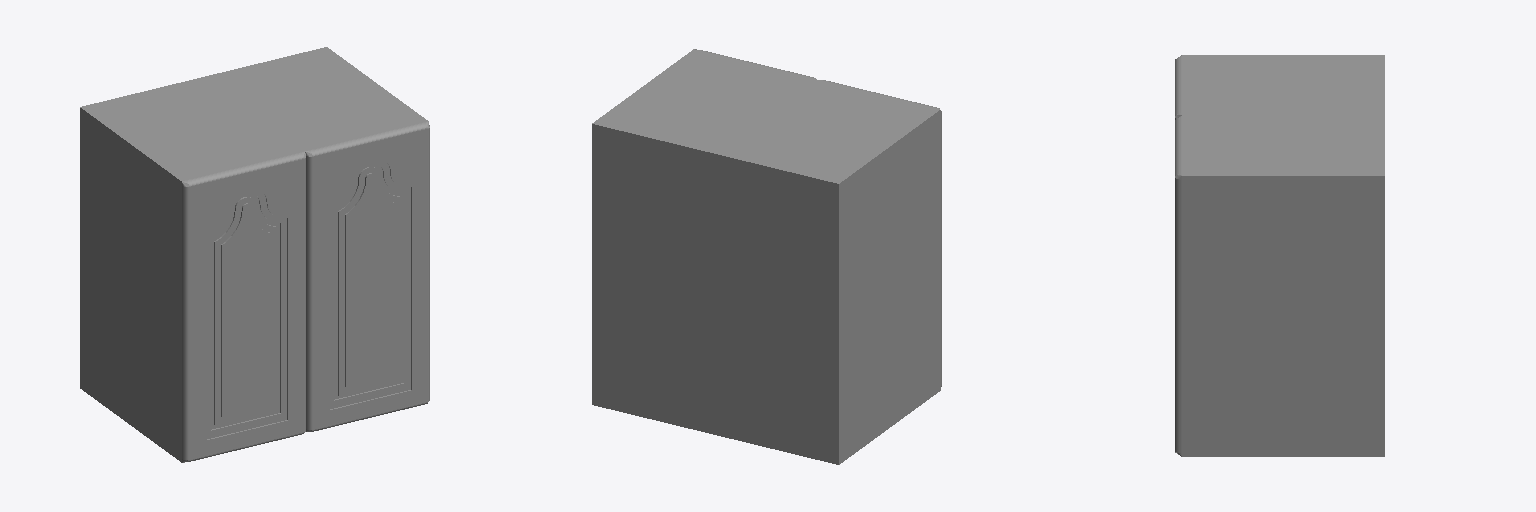
File: double-base-unit-800.obj
3 views of the same model, side by side, from view 1: azimuth 30°, elevation 25°; view 2: azimuth 150°, elevation 25°; view 3: azimuth 270°, elevation 25° (orthographic).
Visible parts, largest first — view 1: Cube.003_Cube.008, Cube.004_Cube.000, Cube.002_Cube.004, Cube_Cube.002; view 2: Cube_Cube.002, Cube.002_Cube.004, Cube.001_Cube.003; view 3: Cube.001_Cube.003, Cube_Cube.002, Cube.004_Cube.000.
Boxes of the visible parts, <box> form: Cube.003_Cube.008: <box>182,151,305,462</box>; Cube.004_Cube.000: <box>305,121,429,431</box>; Cube.002_Cube.004: <box>80,106,184,462</box>; Cube_Cube.002: <box>85,48,422,179</box>; Cube_Cube.002: <box>597,51,935,463</box>; Cube.002_Cube.004: <box>834,109,940,464</box>; Cube.001_Cube.003: <box>592,49,697,405</box>; Cube.001_Cube.003: <box>1182,173,1384,456</box>; Cube_Cube.002: <box>1182,57,1384,172</box>; Cube.004_Cube.000: <box>1175,116,1181,456</box>.
Bounding box in the file's own units: 160 × 174 × 118.